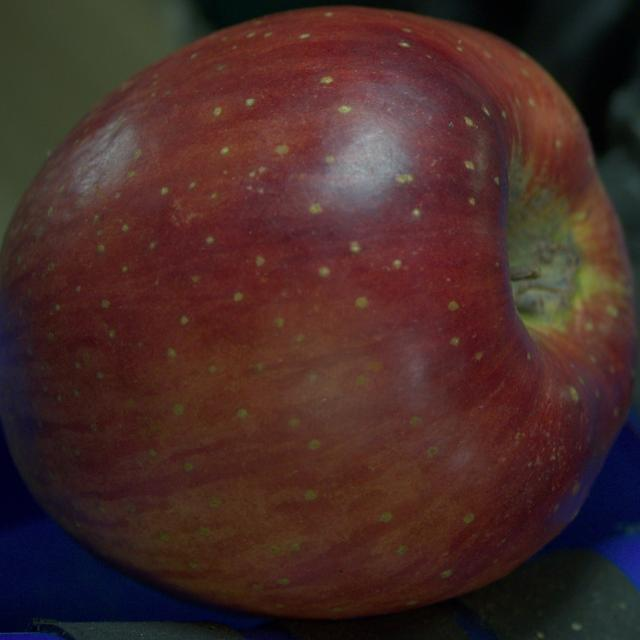apple: (0, 7, 636, 618)
